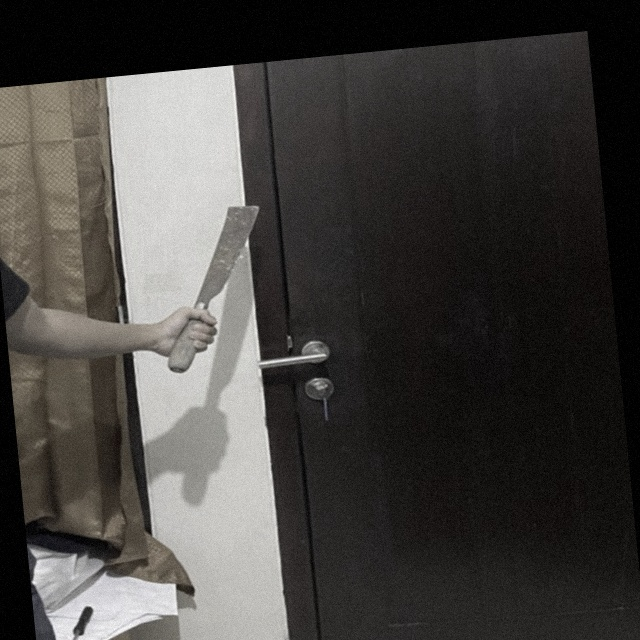Sharp-Object: (152, 203, 277, 376)
